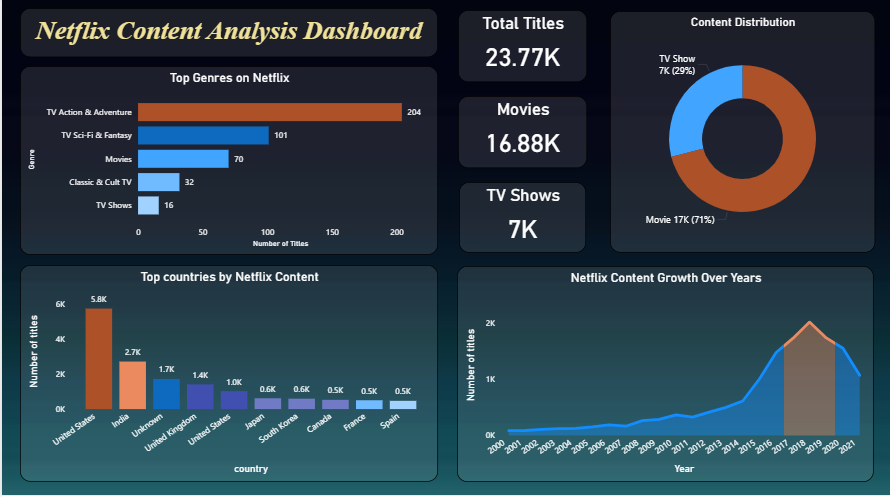

This screenshot's page, from the dashboard's own definition file:
{"tool":"powerbi","page":{"name":"Page 1","canvas":[1280,720],"ordinal":0},"visuals":[{"type":"textbox","box":[25.9,14.4,601.9,70.6],"z":0},{"type":"columnChart","title":"Top countries by Netflix Content","fields":{"Category":["netflix_powerbi_final.country"],"Y":["CountNonNull(netflix_powerbi_final.show_id)"]},"box":[25.9,384.5,601.9,312.5],"z":1000},{"type":"lineChart","title":"Netflix Content Growth Over Years","fields":{"Category":["netflix_powerbi_final.release_year"],"Y":["CountNonNull(netflix_powerbi_final.show_id)"]},"box":[655.2,385.9,600.5,311],"z":2000},{"type":"barChart","title":"Top Genres on Netflix","fields":{"Y":["CountNonNull(netflix_powerbi_final.show_id)"],"Category":["netflix_powerbi_final.listed_in"]},"box":[25.9,97.9,601.9,272.2],"z":3000},{"type":"donutChart","title":"Content Distribution","fields":{"Category":["netflix_powerbi_final.type"],"Y":["CountNonNull(netflix_powerbi_final.show_id)"]},"box":[875.5,18.7,381.6,348.5],"z":4000},{"type":"card","title":"Total Titles","fields":{"Values":["CountNonNull(netflix_powerbi_final.show_id)"]},"box":[656.6,17.3,185.8,103.7],"z":5000},{"type":"card","title":"Movies","fields":{"Values":["CountNonNull(netflix_powerbi_final.type)"]},"box":[656.6,141.1,185.8,103.7],"z":6000},{"type":"card","title":"TV Shows","fields":{"Values":["CountNonNull(netflix_powerbi_final.type)"]},"box":[658.1,265,182.9,102.2],"z":7000}]}

Visuals, with their boxes in screenshot pixels (x1, y1, x2, y2), scaled from the page's 1280x720 canvas onto the 890x497 screenshot:
textbox: 18, 10, 437, 59
"Top countries by Netflix Content" columnChart: 18, 265, 437, 481
"Netflix Content Growth Over Years" lineChart: 456, 266, 873, 481
"Top Genres on Netflix" barChart: 18, 68, 437, 255
"Content Distribution" donutChart: 609, 13, 874, 253
"Total Titles" card: 457, 12, 586, 84
"Movies" card: 457, 97, 586, 169
"TV Shows" card: 458, 183, 585, 253
